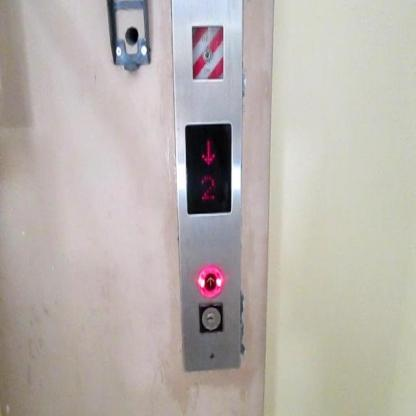keyhole: (196, 301, 224, 333)
led: (182, 120, 236, 218)
switch: (198, 39, 216, 67)
up: (196, 263, 226, 299)
